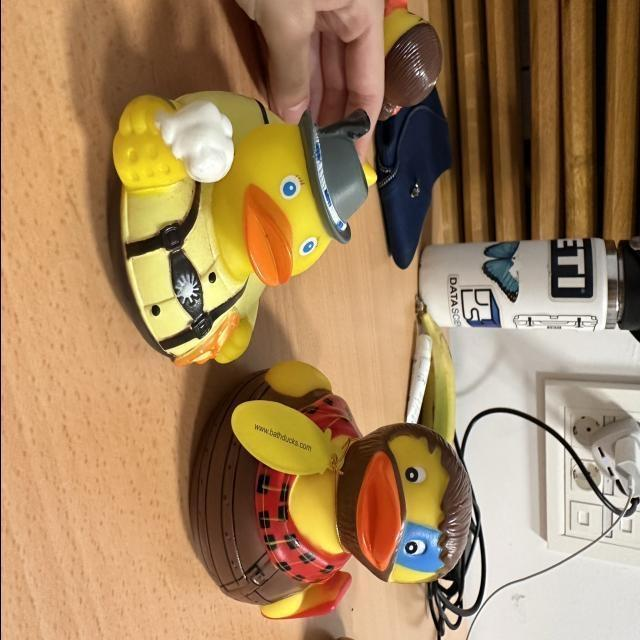rubber-duck: (189, 360, 470, 617), (112, 90, 372, 363)
